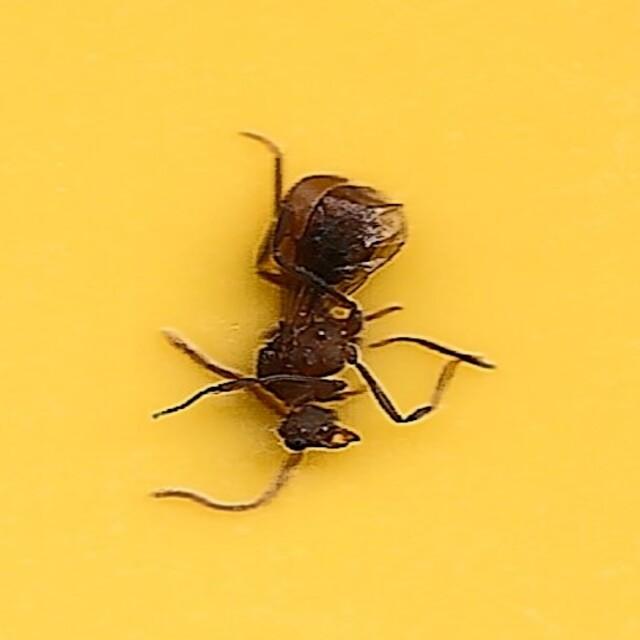Hymenoptera: (157, 124, 483, 516)
